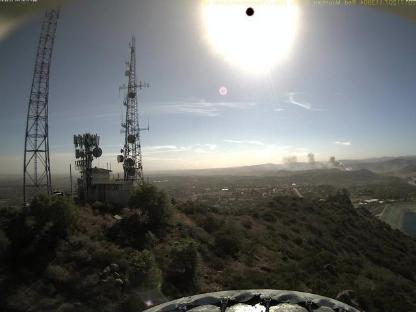smoke: (279, 150, 357, 172)
